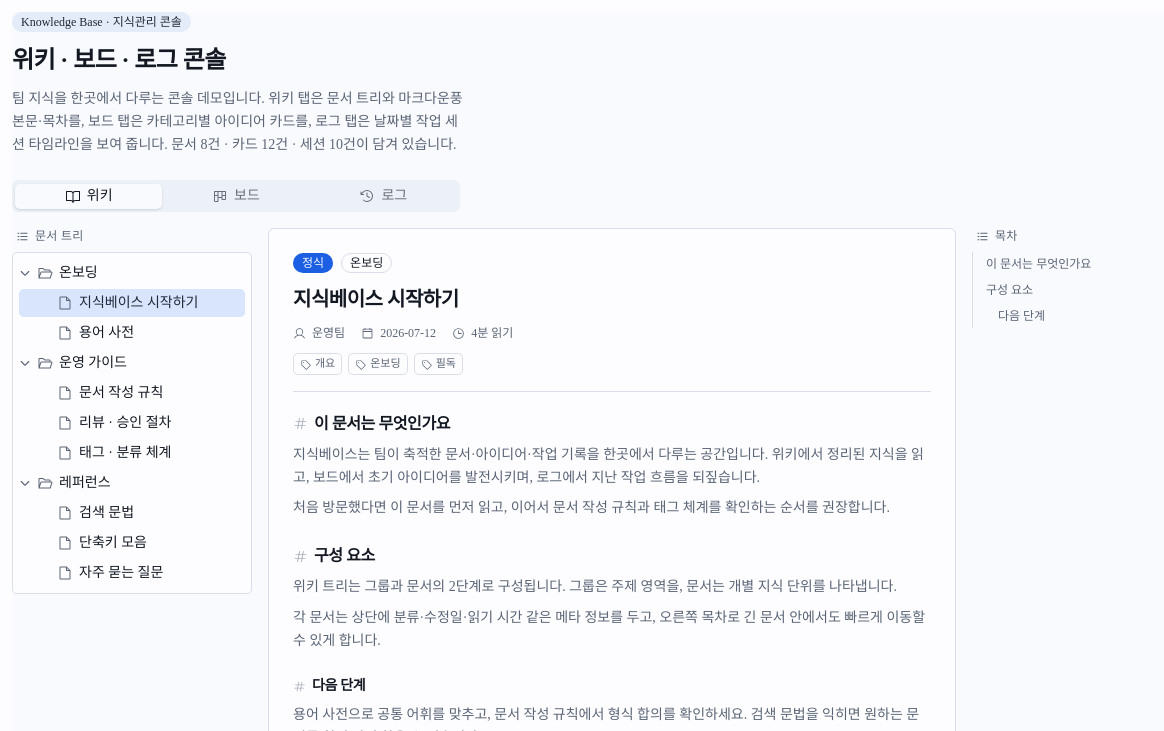
Test case: KnowledgeBaseConsolePage › switches to the logs tab and renders a dated session timeline
The width and height of the screenshot is (1164, 731).
Press the mouse on the tab "로그": (383, 196) [310,184,457,209]
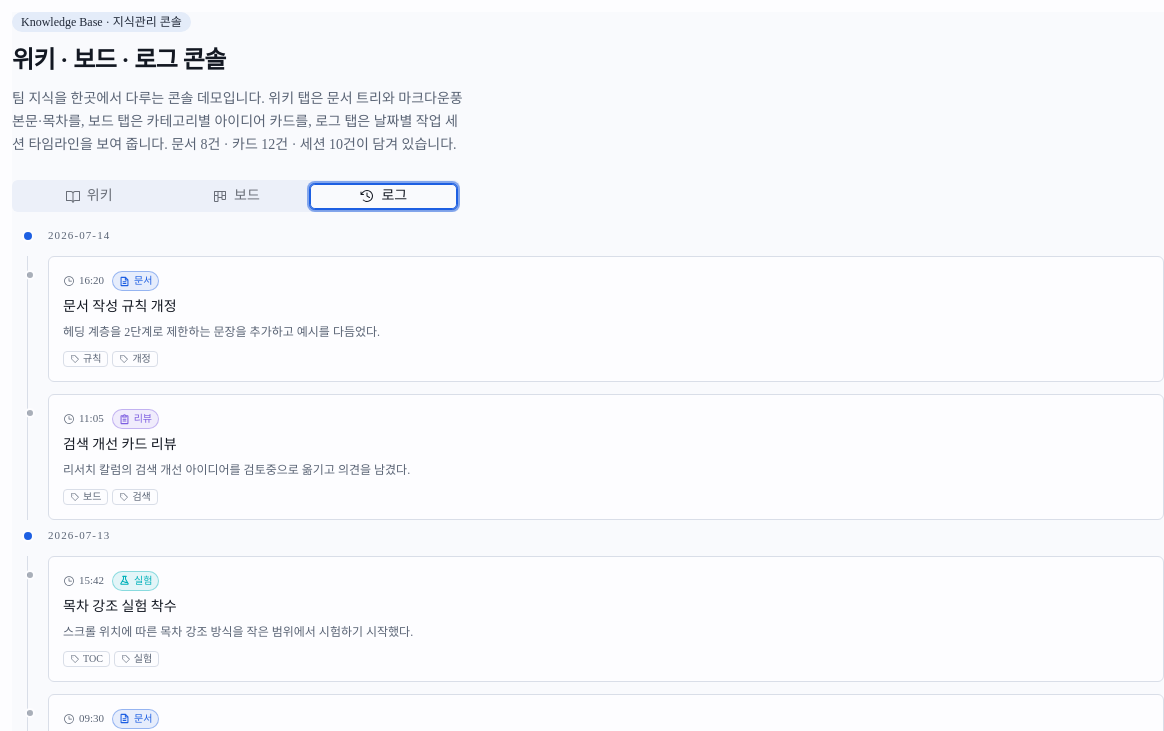
expect the heading "문서 작성 규칙 개정" is shown: met, box [63,299,176,314]
expect the text "2026-07-14" is shown: met, box [22,229,110,242]
